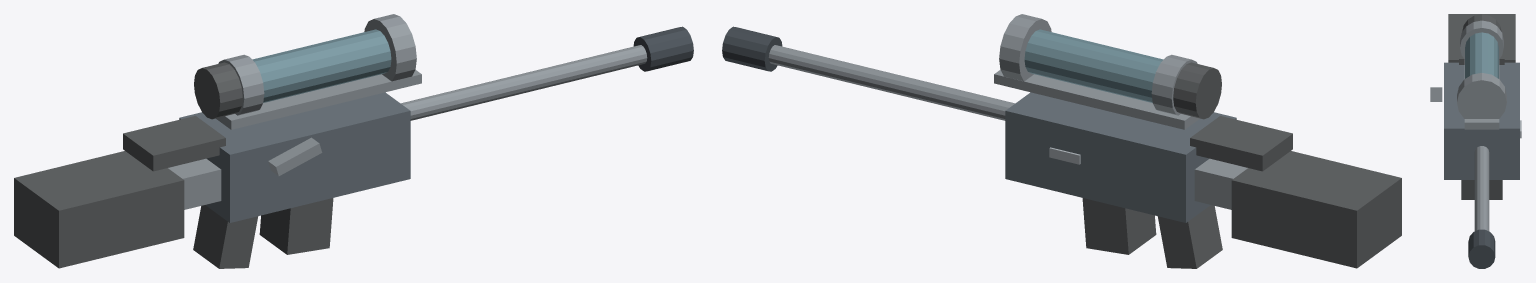
Rendered from classic-sniper.glb.
3 views of the same model, side by side, from view 1: azimuth 30°, elevation 25°; view 2: azimuth 150°, elevation 25°; view 3: azimuth 270°, elevation 25° (orthographic). The views are drawn at different scales.
Visible parts, largest first — view 1: RECEIVER, BUTTSTOCK, SCOPE_TUBE, LONG_BARREL, CHEEK_REST, SCOPE_RAIL, MAGAZINE, GRIP, SCOPE_EYEPIECE, SCOPE_FRONT_RING, MUZZLE_DEVICE, ADJUSTABLE_STOCK (+2 smaller); view 2: RECEIVER, BUTTSTOCK, SCOPE_TUBE, LONG_BARREL, CHEEK_REST, SCOPE_RAIL, MAGAZINE, GRIP, SCOPE_EYEPIECE, SCOPE_FRONT_RING, MUZZLE_DEVICE, ADJUSTABLE_STOCK (+1 smaller); view 3: RECEIVER, SCOPE_FRONT_RING, BUTTSTOCK, SCOPE_TUBE, LONG_BARREL, MUZZLE_DEVICE, SCOPE_REAR_RING, MAGAZINE, SCOPE_RAIL, SCOPE_EYEPIECE, BOLT_HANDLE, CHEEK_REST.
Part boxes in pixels (<box>): RECEIVER: <box>179,92,410,222</box>; BUTTSTOCK: <box>14,151,184,268</box>; SCOPE_TUBE: <box>252,29,391,102</box>; LONG_BARREL: <box>401,45,647,120</box>; CHEEK_REST: <box>123,116,225,171</box>; SCOPE_RAIL: <box>216,70,421,129</box>; MAGAZINE: <box>259,198,333,254</box>; GRIP: <box>193,205,258,268</box>; SCOPE_EYEPIECE: <box>194,62,242,119</box>; SCOPE_FRONT_RING: <box>364,14,416,81</box>; MUZZLE_DEVICE: <box>633,26,693,71</box>; ADJUSTABLE_STOCK: <box>168,158,221,209</box>; RECEIVER: <box>1005,92,1236,222</box>; BUTTSTOCK: <box>1231,151,1401,268</box>; SCOPE_TUBE: <box>1024,29,1163,102</box>; LONG_BARREL: <box>768,45,1014,120</box>; CHEEK_REST: <box>1190,116,1292,171</box>; SCOPE_RAIL: <box>994,70,1199,129</box>; MAGAZINE: <box>1082,198,1156,254</box>; GRIP: <box>1157,205,1222,268</box>; SCOPE_EYEPIECE: <box>1173,62,1221,119</box>; SCOPE_FRONT_RING: <box>999,14,1051,81</box>; MUZZLE_DEVICE: <box>722,26,782,71</box>; ADJUSTABLE_STOCK: <box>1194,158,1247,209</box>; RECEIVER: <box>1444,62,1519,179</box>; SCOPE_FRONT_RING: <box>1457,73,1506,118</box>; BUTTSTOCK: <box>1448,14,1515,62</box>; SCOPE_TUBE: <box>1465,32,1498,78</box>; LONG_BARREL: <box>1474,146,1489,231</box>; MUZZLE_DEVICE: <box>1468,229,1495,268</box>; SCOPE_REAR_RING: <box>1460,20,1503,59</box>; MAGAZINE: <box>1461,180,1502,199</box>; SCOPE_RAIL: <box>1464,59,1499,129</box>; SCOPE_EYEPIECE: <box>1462,14,1501,31</box>; BOLT_HANDLE: <box>1430,87,1442,101</box>; CHEEK_REST: <box>1459,32,1504,64</box>.
Size of the model in its own units: 2.59 by 0.7694 by 0.4205.
